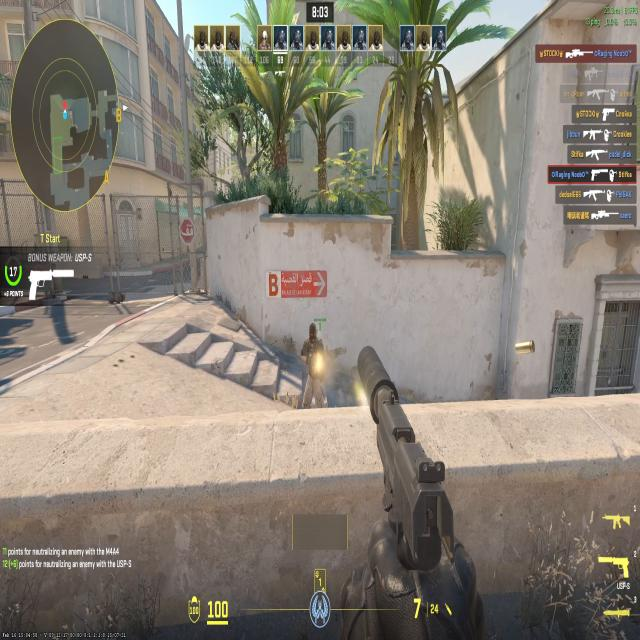player: (293, 320, 331, 419)
